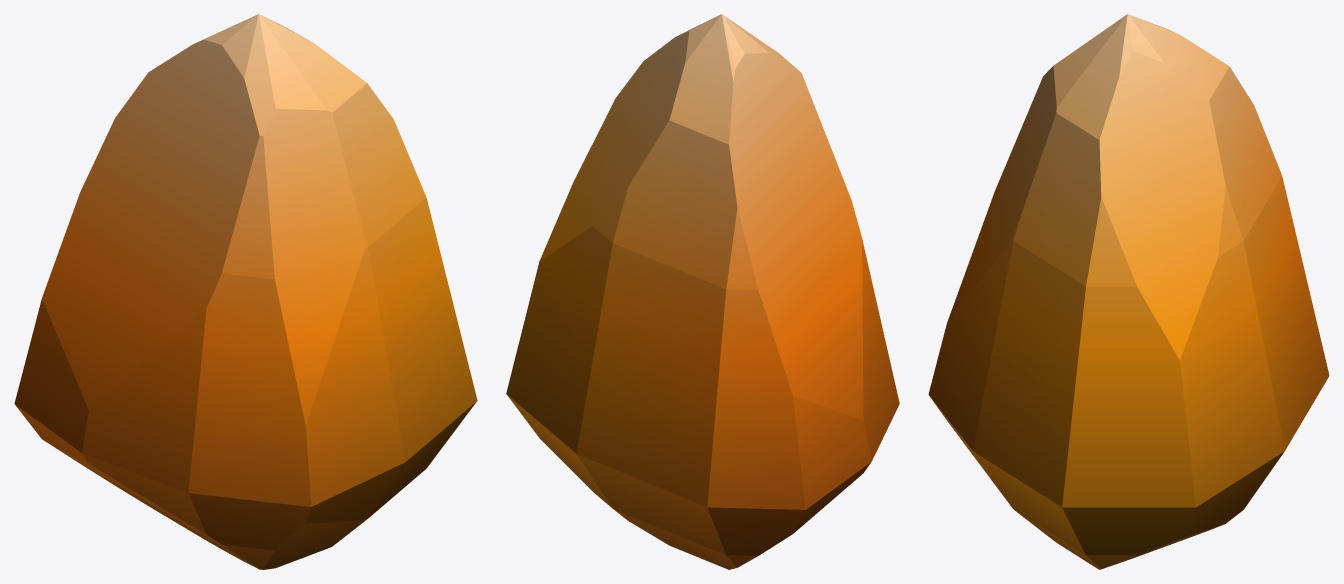
Rendered from boulder3.FBX.
The picture shows the model from 3 angles, left to right: view 1: azimuth 30°, elevation 25°; view 2: azimuth 150°, elevation 25°; view 3: azimuth 270°, elevation 25°; orthographic projection. The views are drawn at different scales.
Parts seen in each view (by area): view 1: boulder3; view 2: boulder3; view 3: boulder3.
Boxes of the visible parts, x1,y1,x2,y2 form: boulder3: (14,14,477,569); boulder3: (506,14,899,569); boulder3: (928,14,1329,569).
Size of the model in its own units: 0.9 by 0.9 by 1.33.
Materials: 1 (1 with a texture image).
